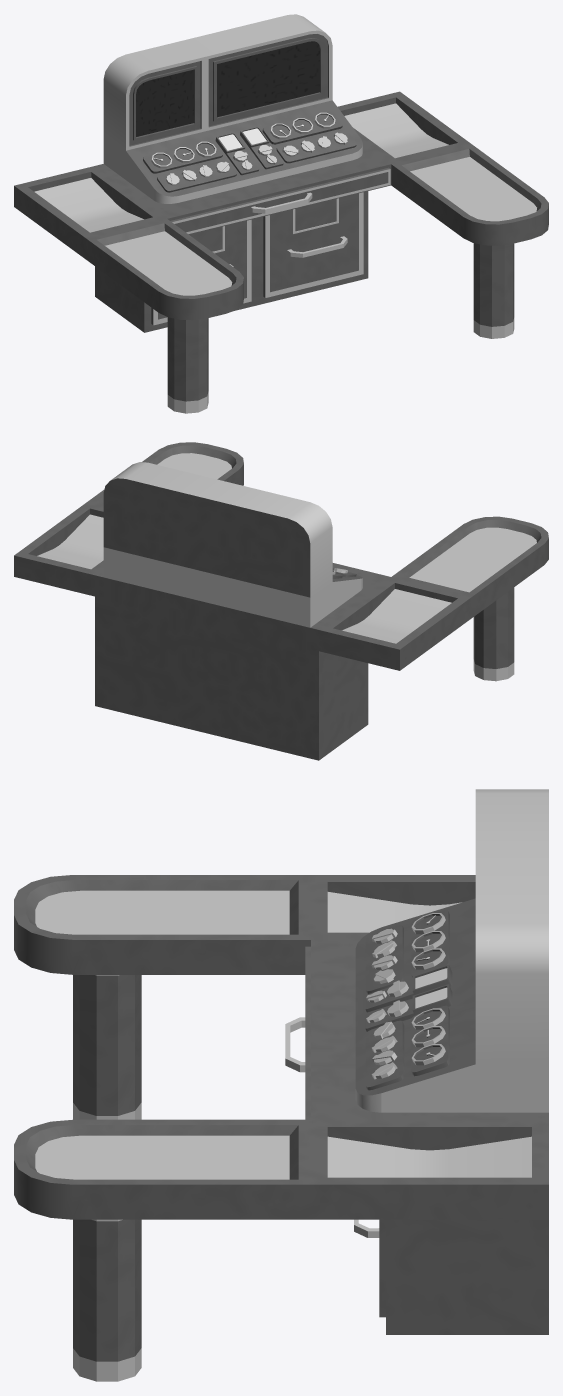
Rendered from ComputerTwoShelves.fbx.
The picture shows the model from 3 angles, top to bottom: view 1: azimuth 30°, elevation 25°; view 2: azimuth 150°, elevation 25°; view 3: azimuth 270°, elevation 25°; orthographic projection. The views are drawn at different scales.
Parts seen in each view (by area): view 1: Cube.122; view 2: Cube.122; view 3: Cube.122.
Part boxes in pixels (x1,y1,x2,y2): Cube.122: (14,14,548,413); Cube.122: (14,442,548,760); Cube.122: (14,789,548,1381).
Size of the model in its own units: 472 by 274 by 345.
